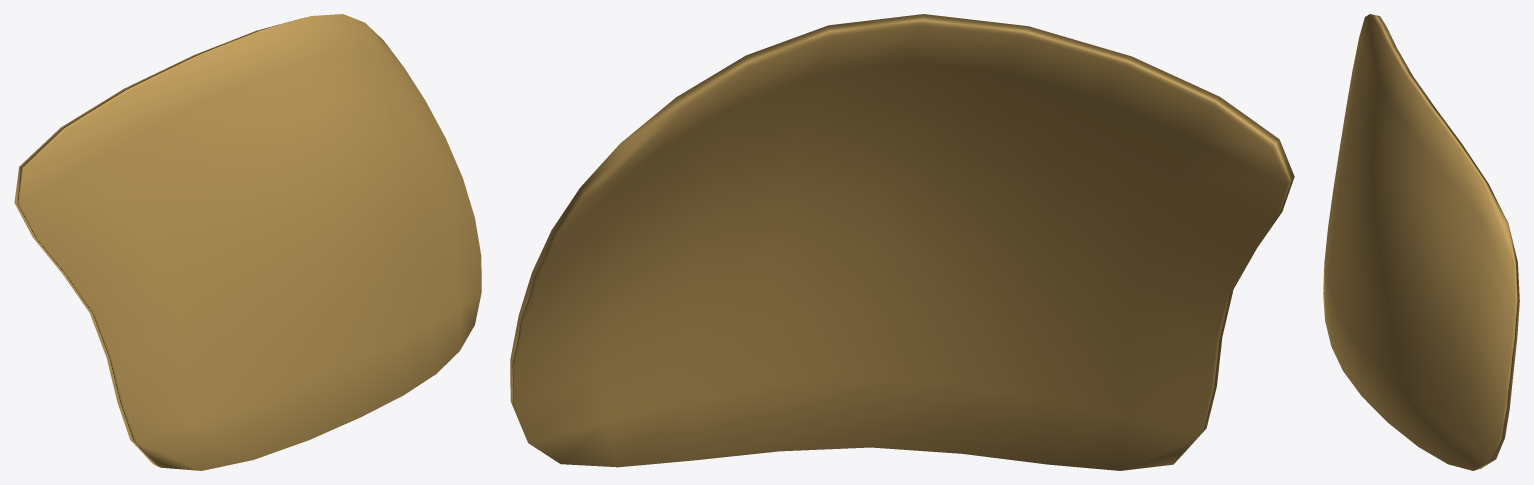
3 views of the same model, side by side, from view 1: azimuth 30°, elevation 25°; view 2: azimuth 150°, elevation 25°; view 3: azimuth 270°, elevation 25° (orthographic). The views are drawn at different scales.
Visible parts, largest first — view 1: 左侧肩锁韧带; view 2: 左侧肩锁韧带; view 3: 左侧肩锁韧带.
Part boxes in pixels (x1=…): 左侧肩锁韧带: x1=14, y1=14, x2=481, y2=470; 左侧肩锁韧带: x1=510, y1=14, x2=1294, y2=470; 左侧肩锁韧带: x1=1323, y1=14, x2=1519, y2=470.
Bounding box in the file's own units: 0.0348 × 0.0241 × 0.014.
